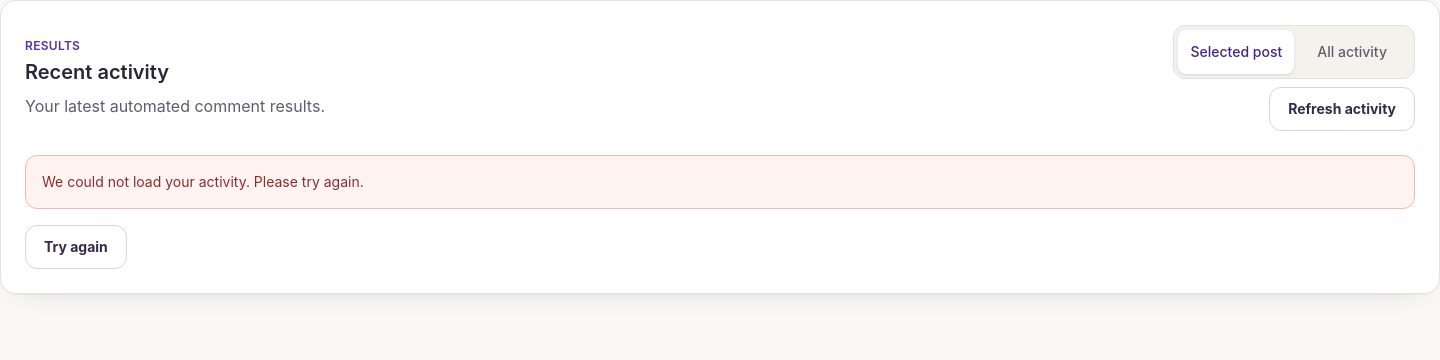
Test: RecentActivity › renders safe failures and retries loading
Check: the message shows "could not load", box [42,173,364,190]
Click the button "Try again" at [76, 247], box [25,225,127,269]
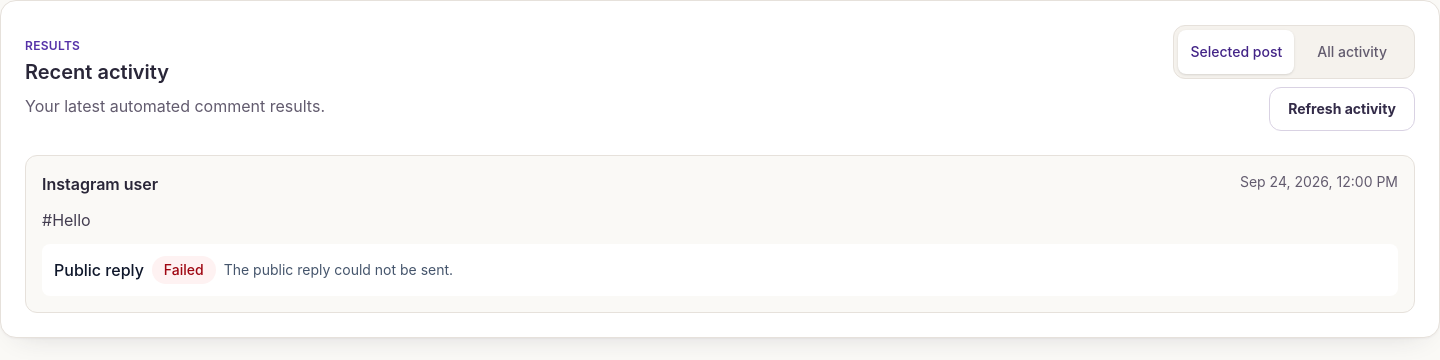
Check: the text "Failed" is shown, box [152,256,216,284]
Check: the text "The public reply could not be sent." is shown, box [224,260,453,280]
